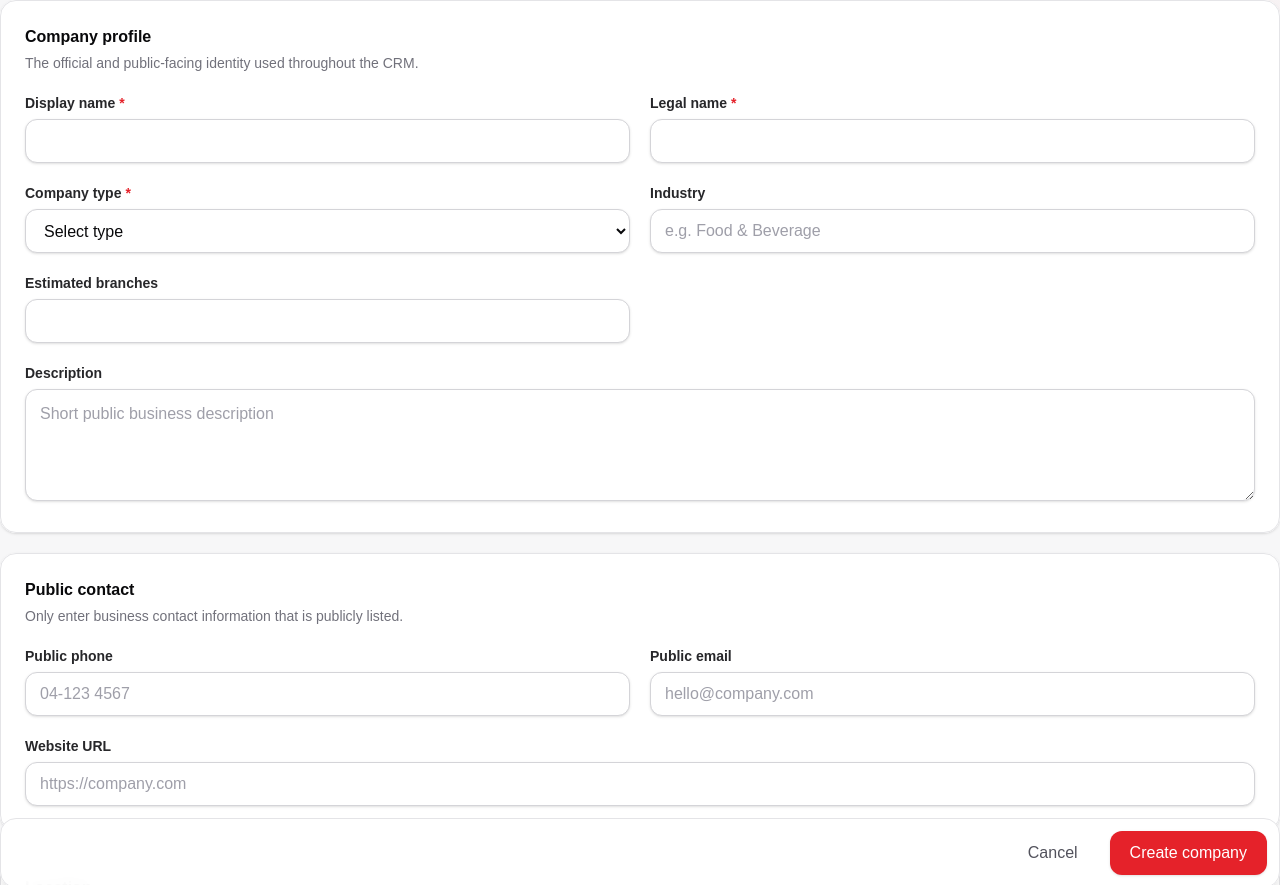
Scenario: Companies UI › renders duplicate warning and deliberate confirmation
The image size is (1280, 885).
Click the button "Create company".
click(1188, 853)  # box [1110,831,1267,875]
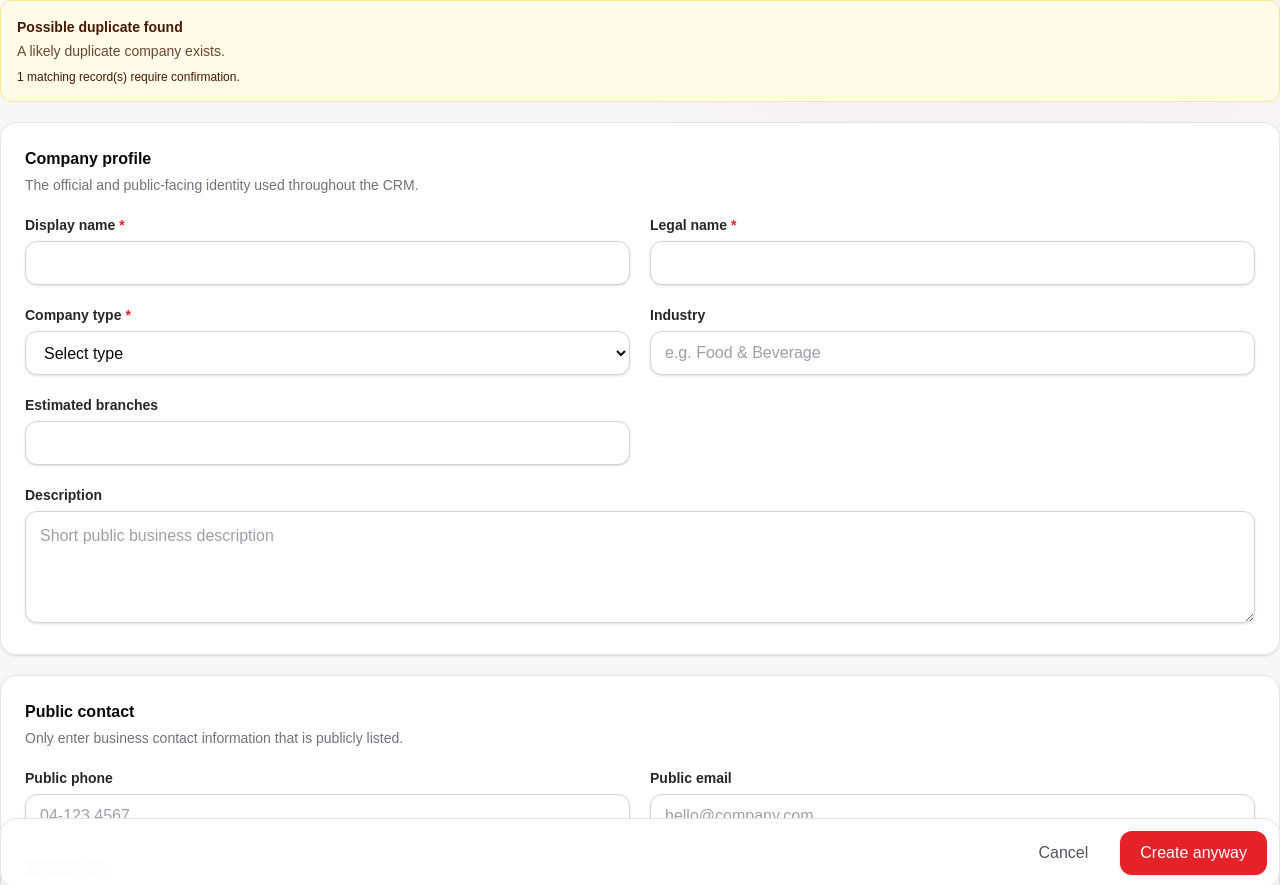
Check: the text "Possible duplicate found" is shown, box [17,19,183,35]
Check: the button "Create anyway" is shown, box [1120,831,1267,875]
